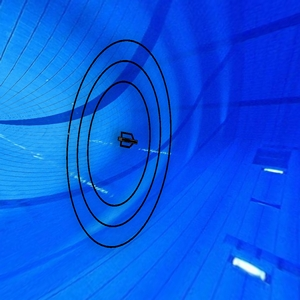circle: (64, 39, 175, 253)
submarine: (114, 128, 141, 153)
